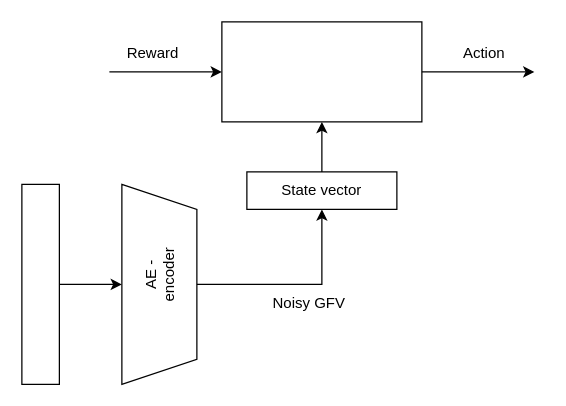
Some shapes in this 566 by 406 pixel diagram are drawn without their labels. The shapes that lost their labels are listed below. From the top down, each one's centre as x and y in pixels, then its label:
At point (321, 71): "Reinforcement Learning Agent".
At point (40, 283): "Random Noise".
